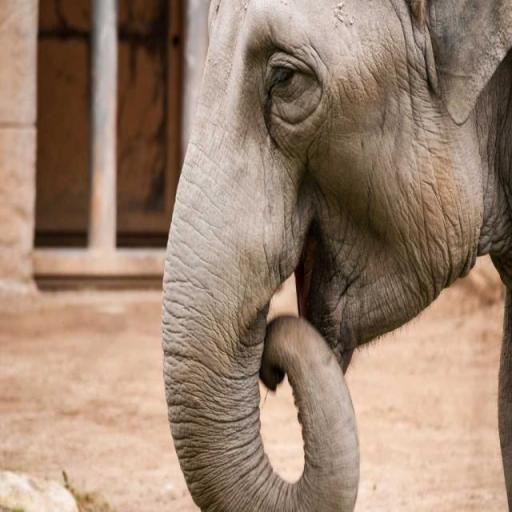Elephant: (159, 0, 511, 510)
